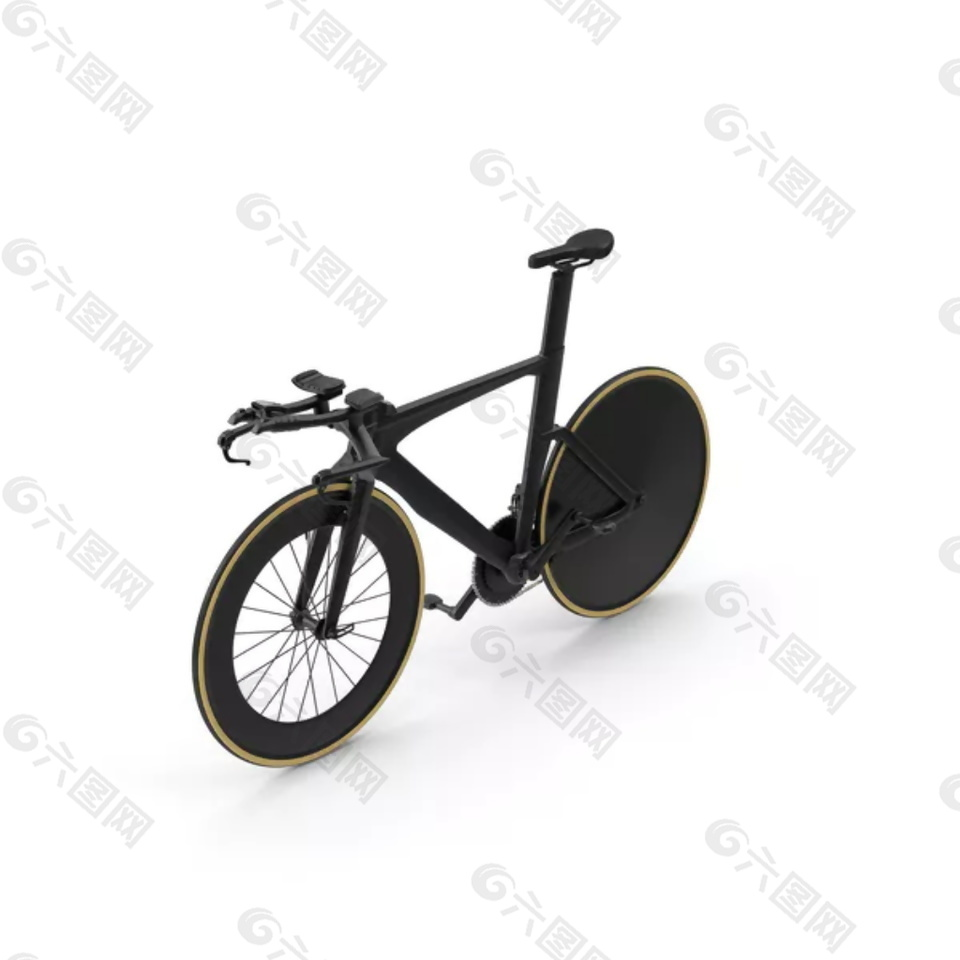MNV: (194, 233, 708, 770)
